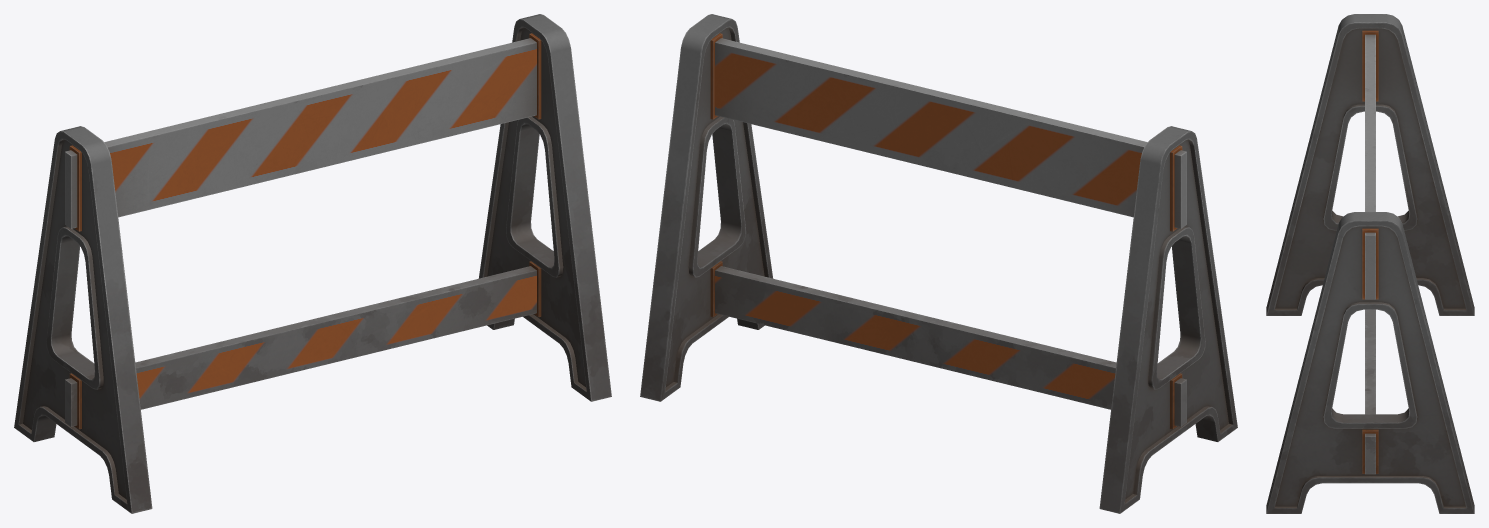
Rendered from SM_ShuiLv.glb.
3 renders of one model, left to right at view 1: azimuth 30°, elevation 25°; view 2: azimuth 150°, elevation 25°; view 3: azimuth 270°, elevation 25°, orthographic. The views are drawn at different scales.
Parts seen in each view (by area): view 1: SM_ShuiLv; view 2: SM_ShuiLv; view 3: SM_ShuiLv.
Part boxes in pixels (x1,y1,x2,y2): SM_ShuiLv: (14, 14, 611, 513); SM_ShuiLv: (640, 14, 1237, 513); SM_ShuiLv: (1266, 14, 1474, 513).
Bounding box in the file's own units: 1.56 × 1.01 × 0.6502.
1 material, 1 textured.
